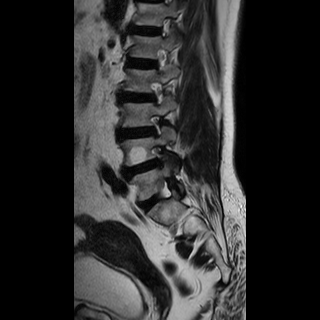LFS0: (144, 77, 174, 110), (148, 42, 176, 76)
LFS1: (144, 110, 169, 141)
LFS3: (145, 141, 172, 174)
